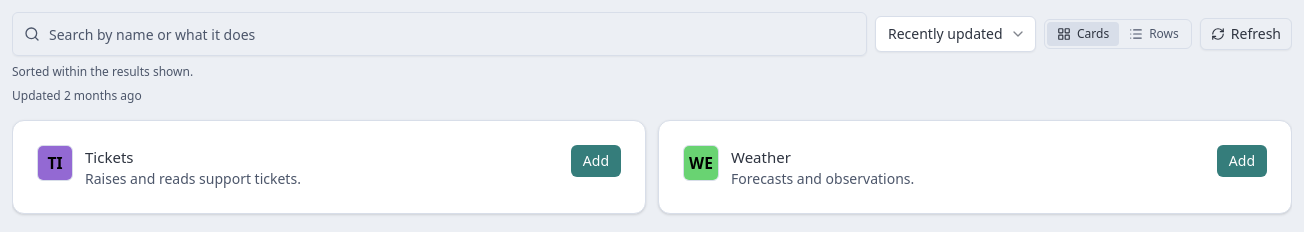
Test: searching › asks the server, rather than filtering what is on screen
The image size is (1304, 232).
Check: the heading "Weather" is shown, box [731,145,791,169]
Type "support" into the search field with placeholder "Search by name or what it does" at (440, 34), box [12,12,867,56]
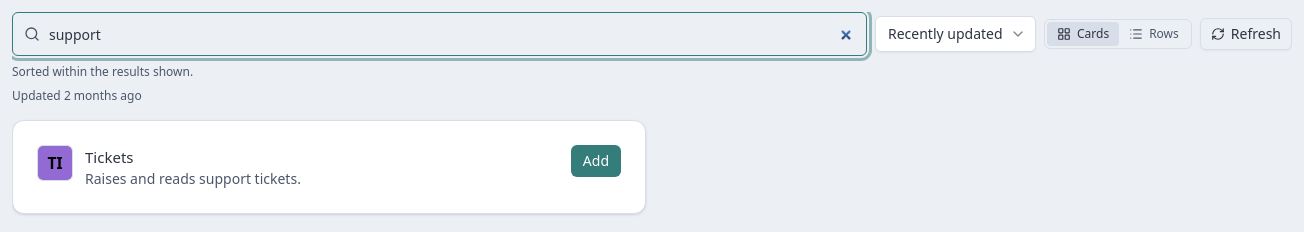
Check: the heading "Tickets" is shown, box [85,145,134,169]
Check: the heading "Weather" is gone
